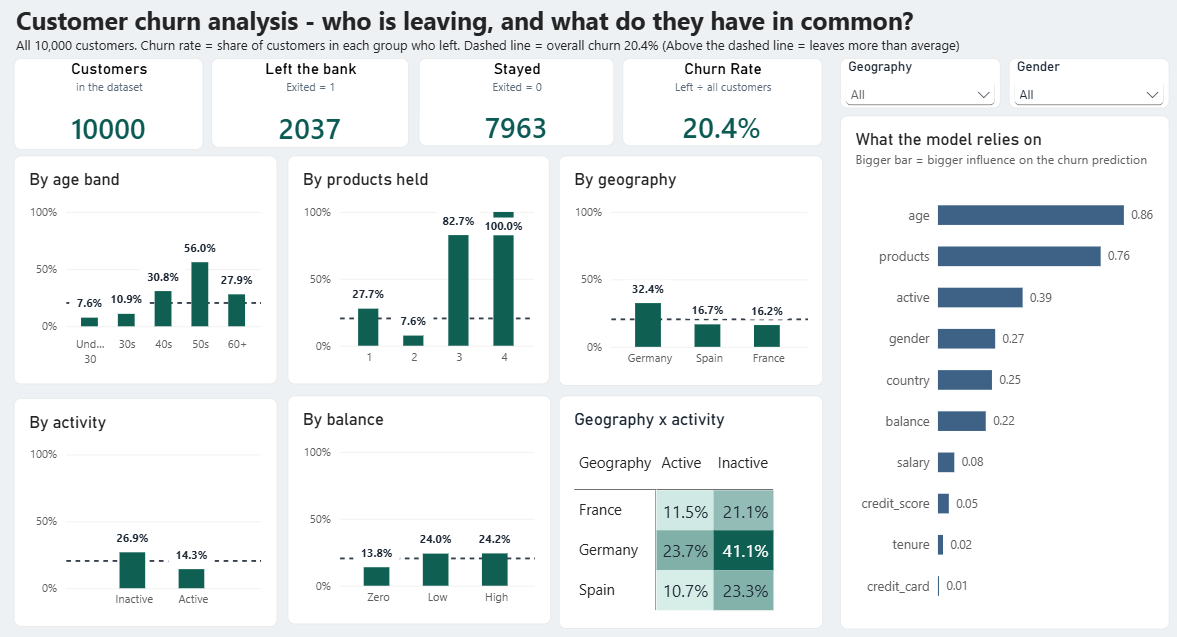

Layout of this report page (visuals, bound fields, positions):
{"tool":"powerbi","page":{"name":"Churn Analysis","canvas":[1280,720],"ordinal":1},"visuals":[{"type":"textbox","box":[30.2,0,423.5,77.2],"z":0},{"type":"textbox","box":[13.3,10.9,1163,59.1],"z":1000},{"type":"clusteredColumnChart","title":"By age band","fields":{"Category":["scored_customers.age_band"],"Y":["Avg(scored_customers.Exited)"]},"box":[14.5,176.1,284.7,247.3],"z":10000},{"type":"slicer","fields":{"Values":["scored_customers.Geography"]},"box":[907.2,70,173.7,54.3],"z":10001},{"type":"slicer","fields":{"Values":["scored_customers.Gender"]},"box":[1089.4,70,173.7,54.3],"z":10002},{"type":"cardVisual","title":"Left the bank","fields":{"Data":["CountNonNull(scored_customers.CustomerId)"]},"box":[228,70,213.5,96.5],"z":10007},{"type":"cardVisual","title":"Customers","fields":{"Data":["CountNonNull(scored_customers.CustomerId)"]},"box":[14.5,70,205.1,98.9],"z":10008},{"type":"clusteredBarChart","title":"What the model relies on","fields":{"Category":["shap_importance.feature"],"Y":["Sum(shap_importance.mean_abs_shap)"]},"box":[907.2,132.7,355.9,555],"z":10014},{"type":"pivotTable","title":"Geography x activity","fields":{"Columns":["scored_customers.Activity"],"Rows":["scored_customers.Geography"],"Values":["_Measures.Churn rate"]},"box":[603.2,435.5,285.9,252.1],"z":10015},{"type":"cardVisual","title":"Stayed","fields":{"Data":["_Measures.Stayed"]},"box":[452.4,70,211.1,95.3],"z":10016},{"type":"cardVisual","title":"Churn Rate","fields":{"Data":["_Measures.Churn rate"]},"box":[673.2,70,216,95.3],"z":10017},{"type":"clusteredColumnChart","title":"By products held","fields":{"Category":["scored_customers.NumOfProducts"],"Y":["Avg(scored_customers.Exited)"]},"box":[311.3,176.1,283.5,247.3],"z":10018},{"type":"clusteredColumnChart","title":"By geography","fields":{"Category":["scored_customers.Geography"],"Y":["Avg(scored_customers.Exited)"]},"box":[603.2,176.1,285.9,248.5],"z":10019},{"type":"clusteredColumnChart","title":"By activity","fields":{"Category":["scored_customers.Activity"],"Y":["Avg(scored_customers.Exited)"]},"box":[14.5,437.9,284.7,247.3],"z":10020},{"type":"clusteredColumnChart","title":"By balance","fields":{"Category":["scored_customers.balance_band"],"Y":["Avg(scored_customers.Exited)"]},"box":[310.1,435.5,284.7,247.3],"z":10021}]}

Visuals, with their boxes on the page's 1280x720 design canvas (x1, y1, x2, y2). These are canvas units, not pixel positions in the 1177x637 screenshot, which may show the page scaled, cropped or inside an application window:
textbox: <region>30, 0, 454, 77</region>
textbox: <region>13, 11, 1176, 70</region>
"By age band" clusteredColumnChart: <region>14, 176, 299, 423</region>
slicer - scored_customers.Geography: <region>907, 70, 1081, 124</region>
slicer - scored_customers.Gender: <region>1089, 70, 1263, 124</region>
"Left the bank" cardVisual: <region>228, 70, 442, 166</region>
"Customers" cardVisual: <region>14, 70, 220, 169</region>
"What the model relies on" clusteredBarChart: <region>907, 133, 1263, 688</region>
"Geography x activity" pivotTable: <region>603, 436, 889, 688</region>
"Stayed" cardVisual: <region>452, 70, 664, 165</region>
"Churn Rate" cardVisual: <region>673, 70, 889, 165</region>
"By products held" clusteredColumnChart: <region>311, 176, 595, 423</region>
"By geography" clusteredColumnChart: <region>603, 176, 889, 425</region>
"By activity" clusteredColumnChart: <region>14, 438, 299, 685</region>
"By balance" clusteredColumnChart: <region>310, 436, 595, 683</region>
